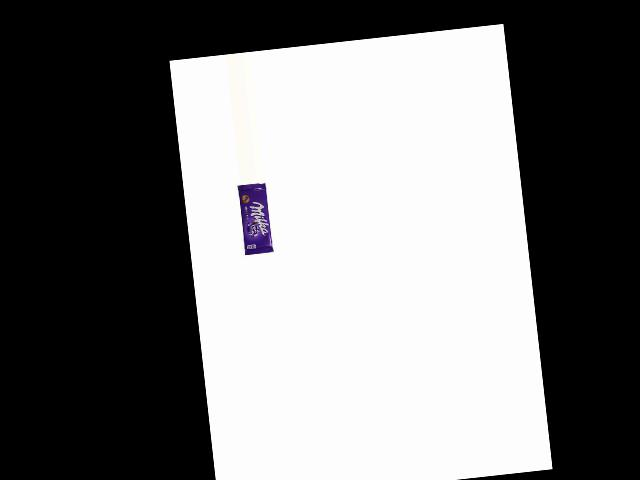chocolate: (233, 181, 275, 259)
